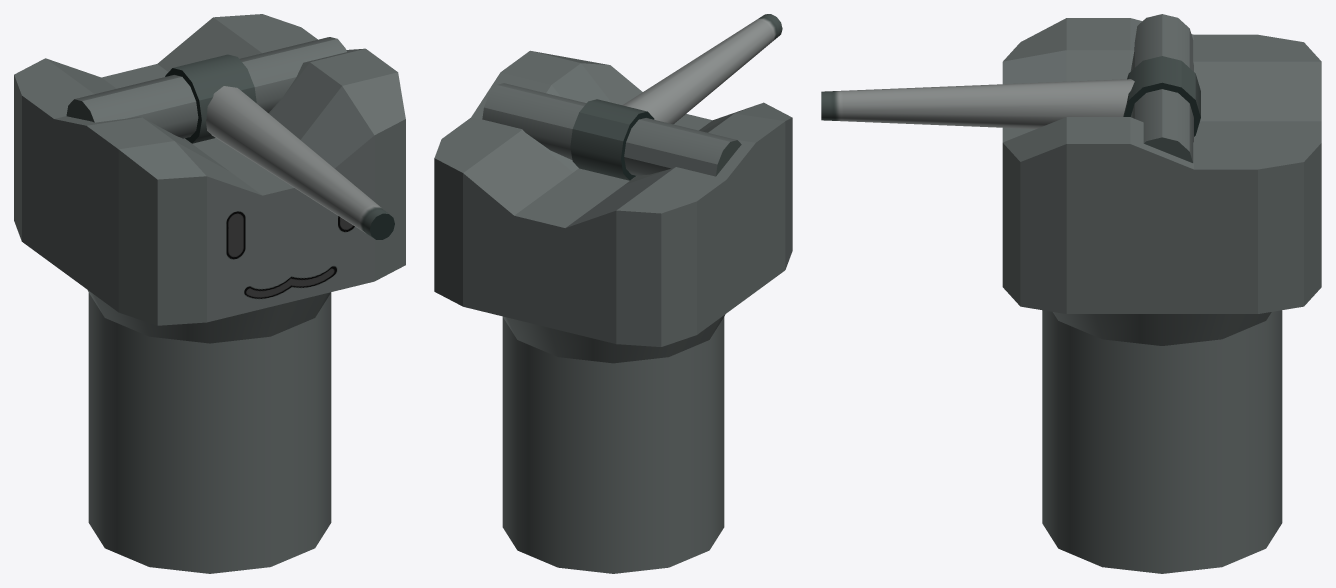
The model's file is Turret.fbx.
3 renders of one model, left to right at view 1: azimuth 30°, elevation 25°; view 2: azimuth 150°, elevation 25°; view 3: azimuth 270°, elevation 25°, orthographic. The views are drawn at different scales.
Parts seen in each view (by area): view 1: Head, Body, Gun; view 2: Head, Body, Gun; view 3: Head, Body, Gun.
Boxes of the visible parts, x1,y1,x2,y2 form: Head: [14, 14, 405, 325]; Body: [87, 290, 331, 573]; Gun: [66, 37, 394, 239]; Head: [434, 50, 792, 346]; Body: [502, 314, 725, 573]; Gun: [482, 14, 782, 180]; Head: [1002, 18, 1321, 313]; Body: [1042, 310, 1282, 573]; Gun: [821, 14, 1200, 162].
Bounding box in the file's own units: 300 × 471 × 471.
